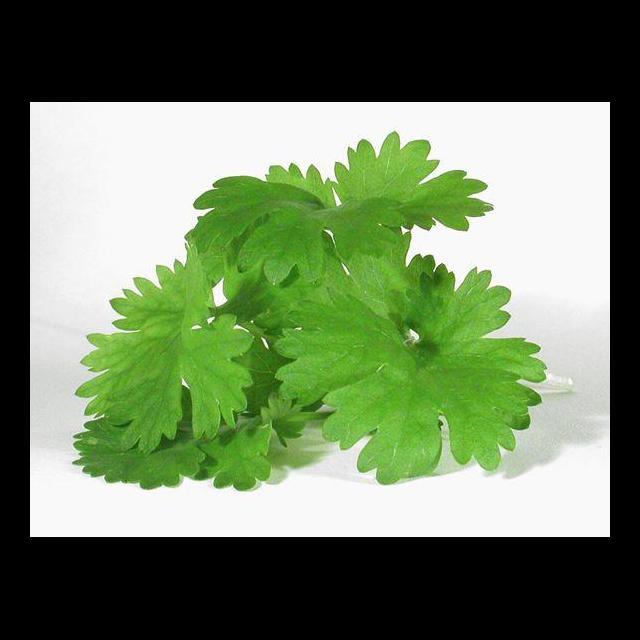cilantro: (71, 130, 570, 492)
